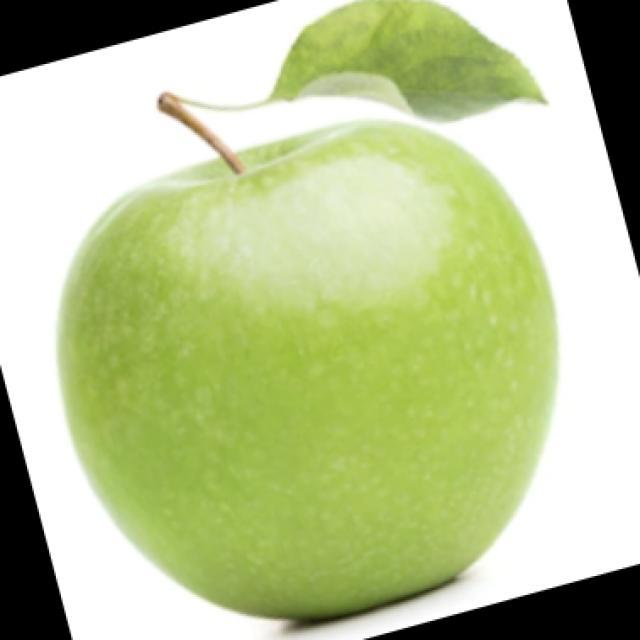Fresh Apple: (63, 125, 555, 622)
